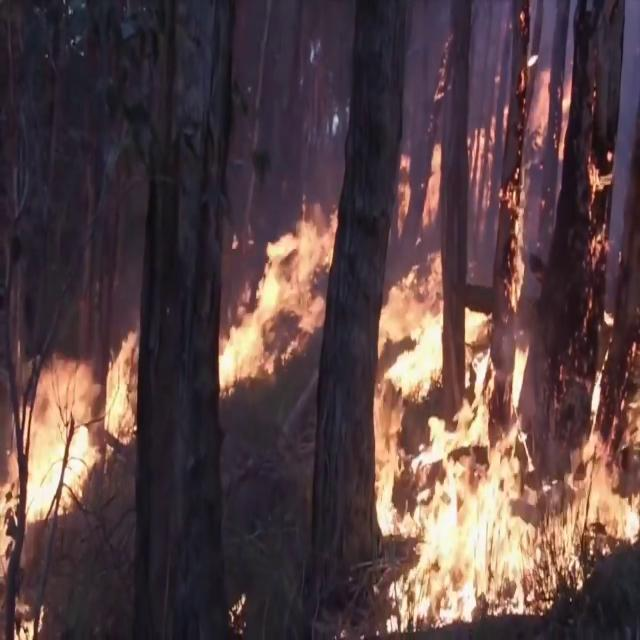Fire: (365, 35, 640, 625), (0, 305, 138, 617), (216, 185, 337, 390)
